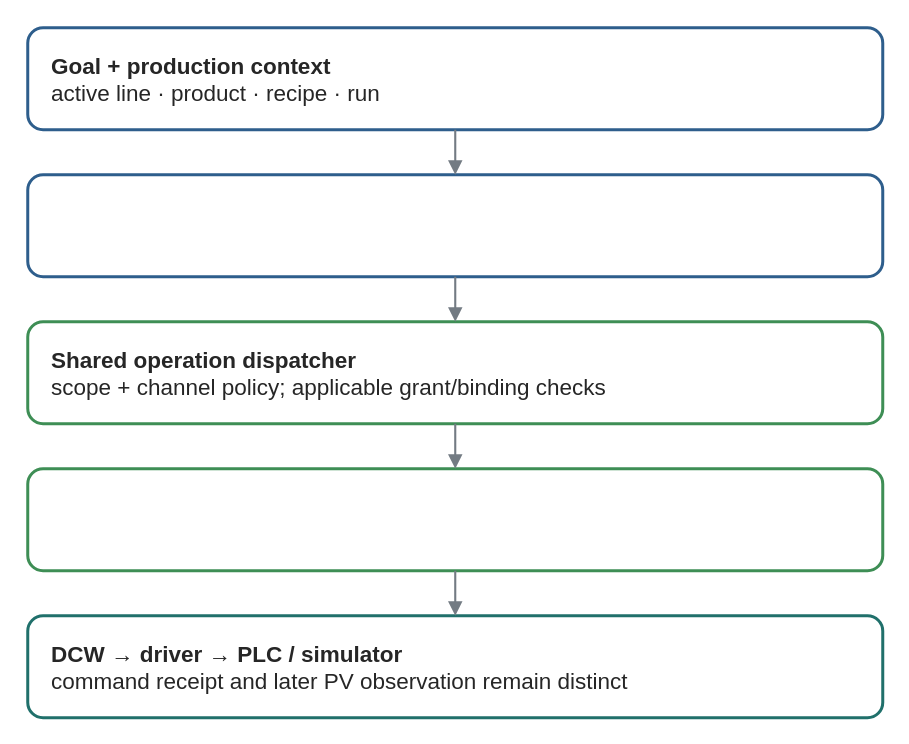
Image size: 909x744. Some labels were removed from this diagram. The centre of each missing label's shape, as x and y in pixels:
"Agent control reads DAQ/MES; proposes a named operation" belongs at [455,225].
"Write guards + approval process limits; approval as required; context rechecked" belongs at [455,519].
